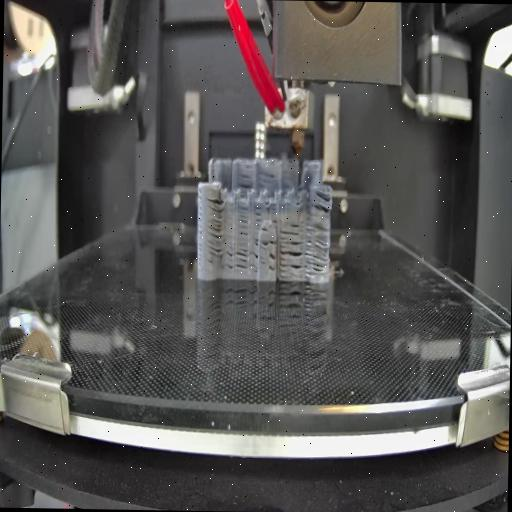cracks: (206, 199, 224, 261), (306, 225, 328, 275), (278, 238, 302, 274), (238, 206, 248, 240), (314, 195, 332, 213), (236, 248, 248, 270), (252, 238, 278, 248), (279, 224, 300, 236), (237, 173, 253, 188), (226, 246, 233, 272), (267, 254, 276, 272), (255, 204, 263, 222), (258, 172, 276, 178), (250, 254, 258, 266), (260, 224, 268, 232), (270, 218, 278, 225)
